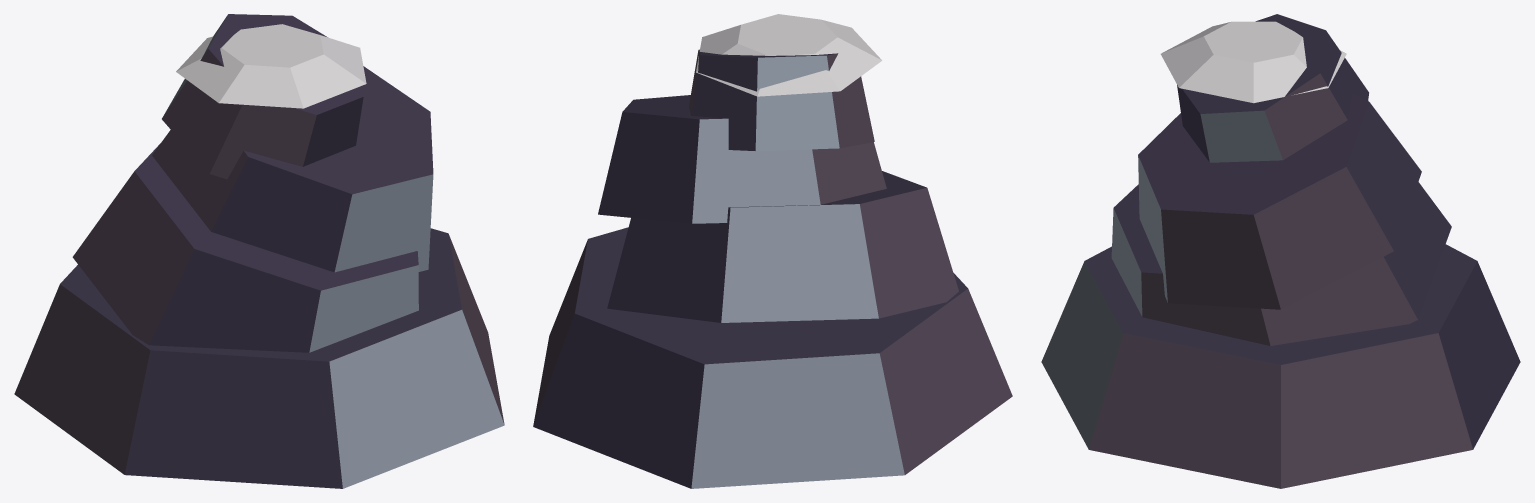
Rendered from cairn.glb.
3 views of the same model, side by side, from view 1: azimuth 30°, elevation 25°; view 2: azimuth 150°, elevation 25°; view 3: azimuth 270°, elevation 25° (orthographic). The views are drawn at different scales.
Parts seen in each view (by area): view 1: cairn; view 2: cairn; view 3: cairn.
Boxes of the visible parts, x1,y1,x2,y2 form: cairn: (14, 14, 504, 488); cairn: (533, 14, 1012, 488); cairn: (1041, 14, 1520, 488).
Bounding box in the file's own units: 1.37 × 1.12 × 1.4.
